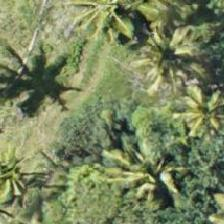coconut_tree: (99, 130, 189, 220), (146, 56, 223, 146)
